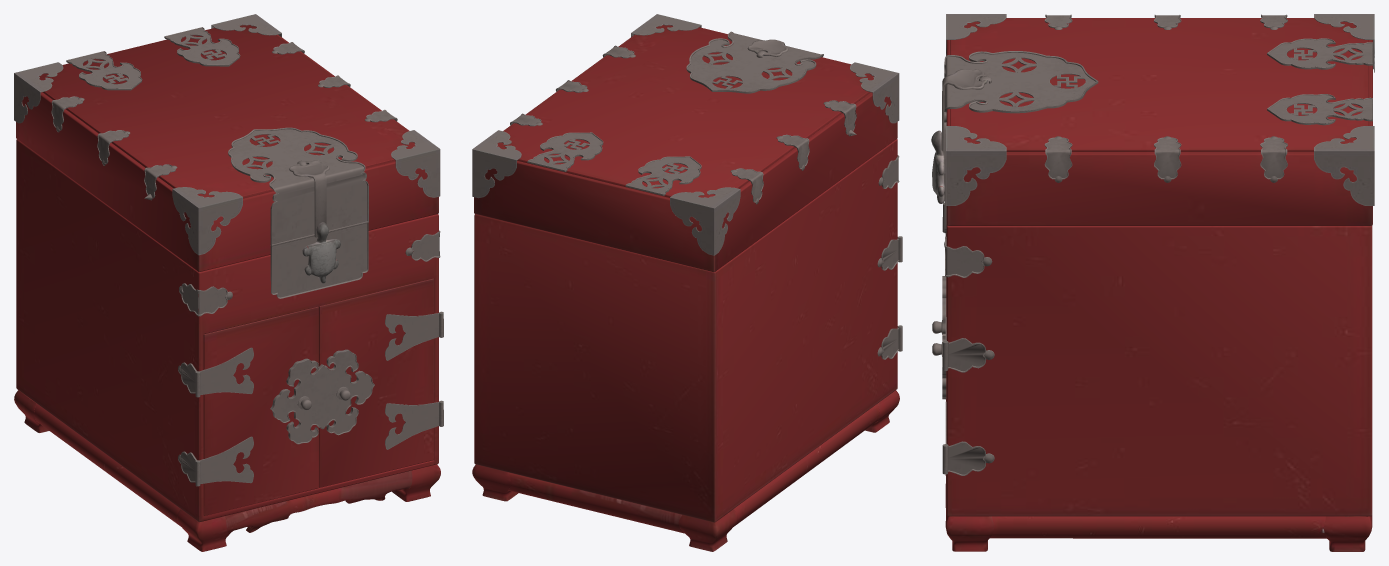
The picture shows the model from 3 angles, left to right: view 1: azimuth 30°, elevation 25°; view 2: azimuth 150°, elevation 25°; view 3: azimuth 270°, elevation 25°; orthographic projection. The views are drawn at different scales.
Visible parts, largest first — view 1: SM_GNJ_StorageboxA; view 2: SM_GNJ_StorageboxA; view 3: SM_GNJ_StorageboxA.
Part boxes in pixels (left/top/right/bottom): SM_GNJ_StorageboxA: left=14, top=14, right=443, bottom=551; SM_GNJ_StorageboxA: left=472, top=14, right=902, bottom=551; SM_GNJ_StorageboxA: left=931, top=14, right=1374, bottom=551.
Bounding box in the file's own units: 0.2928 × 0.393 × 0.3858.
Materials: 1 (1 with a texture image).
